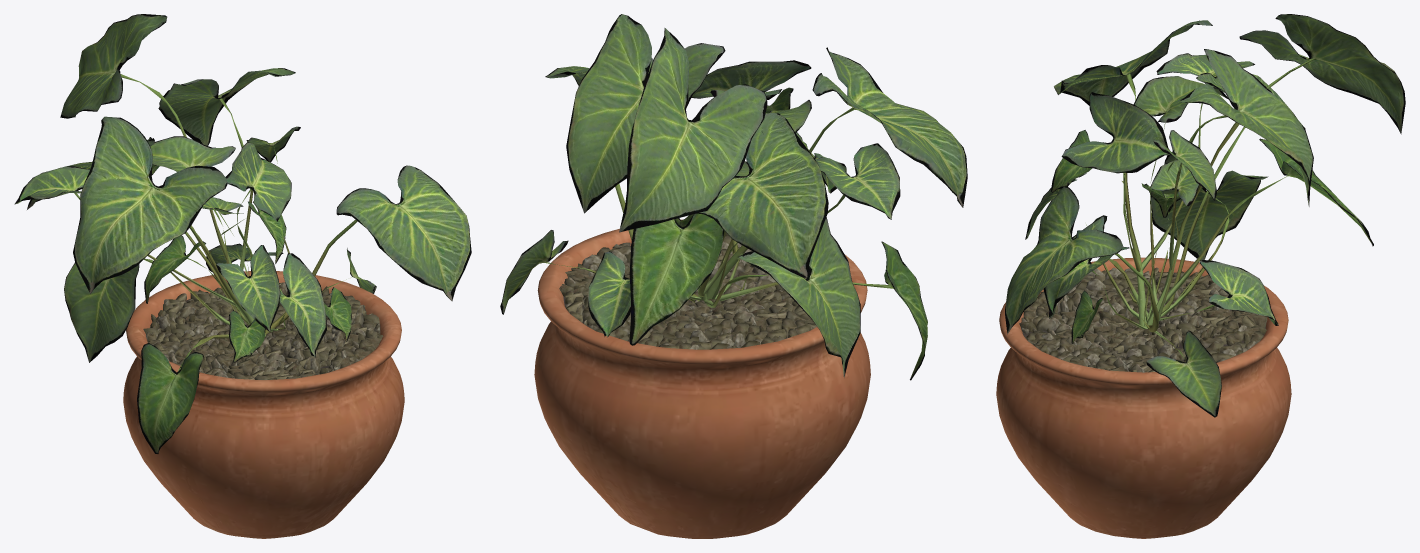
The model's file is potted_plant_02.glb.
3 renders of one model, left to right at view 1: azimuth 30°, elevation 25°; view 2: azimuth 150°, elevation 25°; view 3: azimuth 270°, elevation 25°, orthographic. The views are drawn at different scales.
Parts seen in each view (by area): view 1: potted_plant_02_leaves, potted_plant_02_pot; view 2: potted_plant_02_leaves, potted_plant_02_pot; view 3: potted_plant_02_pot, potted_plant_02_leaves.
Boxes of the visible parts, box(x1,y1,x2,y2) form: potted_plant_02_leaves: box(14, 14, 471, 453); potted_plant_02_pot: box(123, 271, 404, 538); potted_plant_02_leaves: box(500, 14, 967, 380); potted_plant_02_pot: box(534, 219, 870, 538); potted_plant_02_pot: box(996, 257, 1291, 538); potted_plant_02_leaves: box(1005, 14, 1405, 417).
Size of the model in its own units: 0.7009 by 0.8411 by 0.6574.
2 materials, 2 textured.
